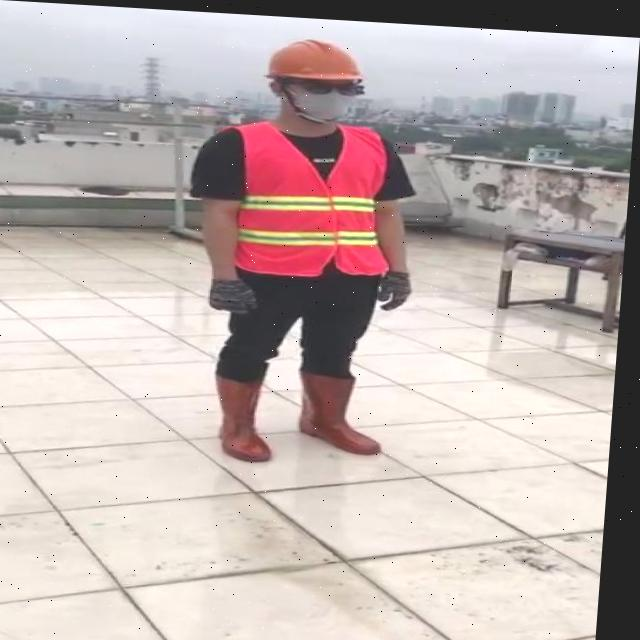Gloves: (211, 272, 264, 312), (380, 265, 417, 306)
Helmet: (265, 33, 366, 81)
Safety-Boot: (300, 363, 391, 450), (215, 359, 283, 459)
Safety-Vest: (215, 112, 400, 278)
